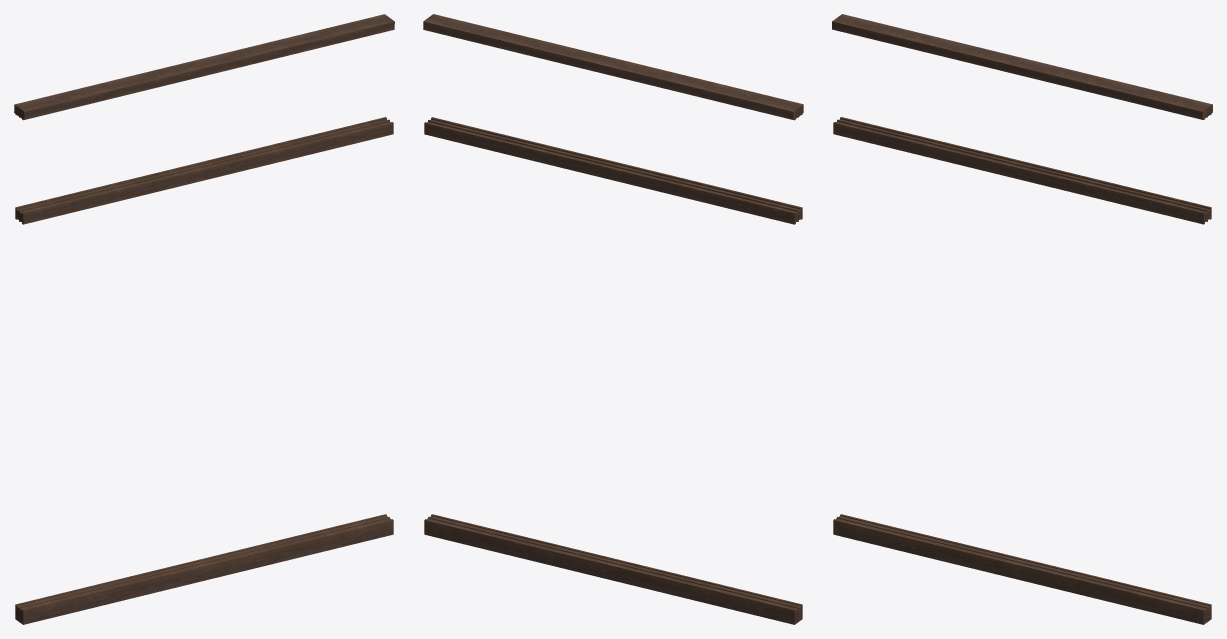
Rendered from jov_outwall01_1t_to_e2.fbx.
3 views of the same model, side by side, from view 1: azimuth 30°, elevation 25°; view 2: azimuth 150°, elevation 25°; view 3: azimuth 330°, elevation 25° (orthographic).
Parts seen in each view (by area): view 1: jov_outwall01_1t_to_e2; view 2: jov_outwall01_1t_to_e2; view 3: jov_outwall01_1t_to_e2.
Part boxes in pixels (<box>): jov_outwall01_1t_to_e2: <box>14,14,394,624</box>; jov_outwall01_1t_to_e2: <box>423,14,803,624</box>; jov_outwall01_1t_to_e2: <box>832,14,1212,624</box>.
Bounding box in the file's own units: 220 × 292 × 10.57.
